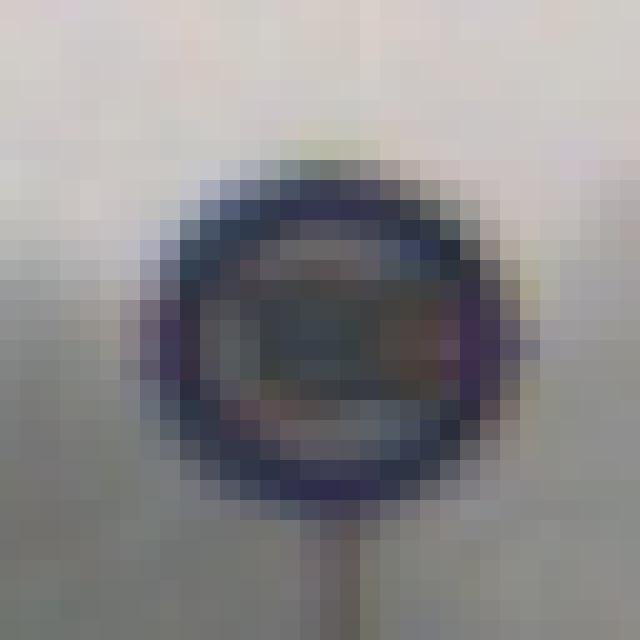SPEED LIMIT 100: (140, 162, 500, 518)
